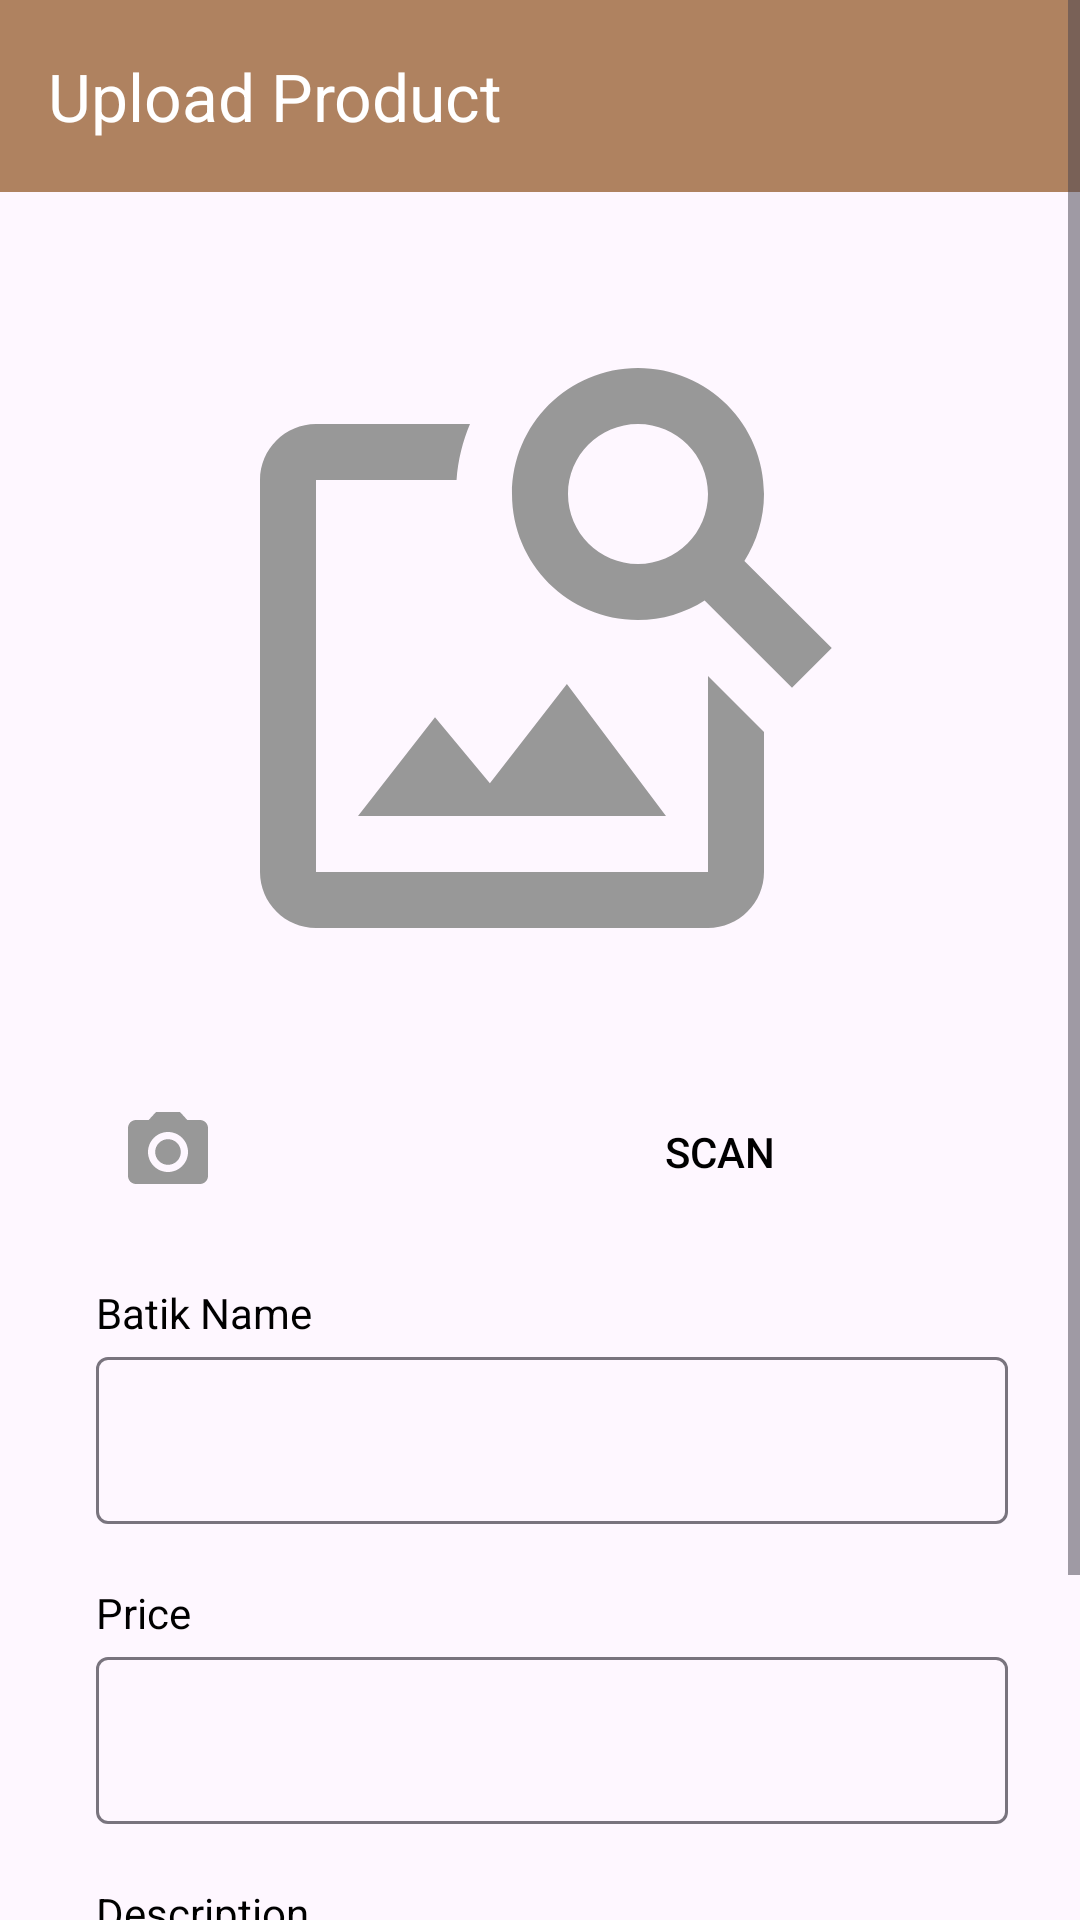

Where to tap for icons on this 1080 × 1920 app screen, as (x=x, y=y):
camera: (x=168, y=1148)
